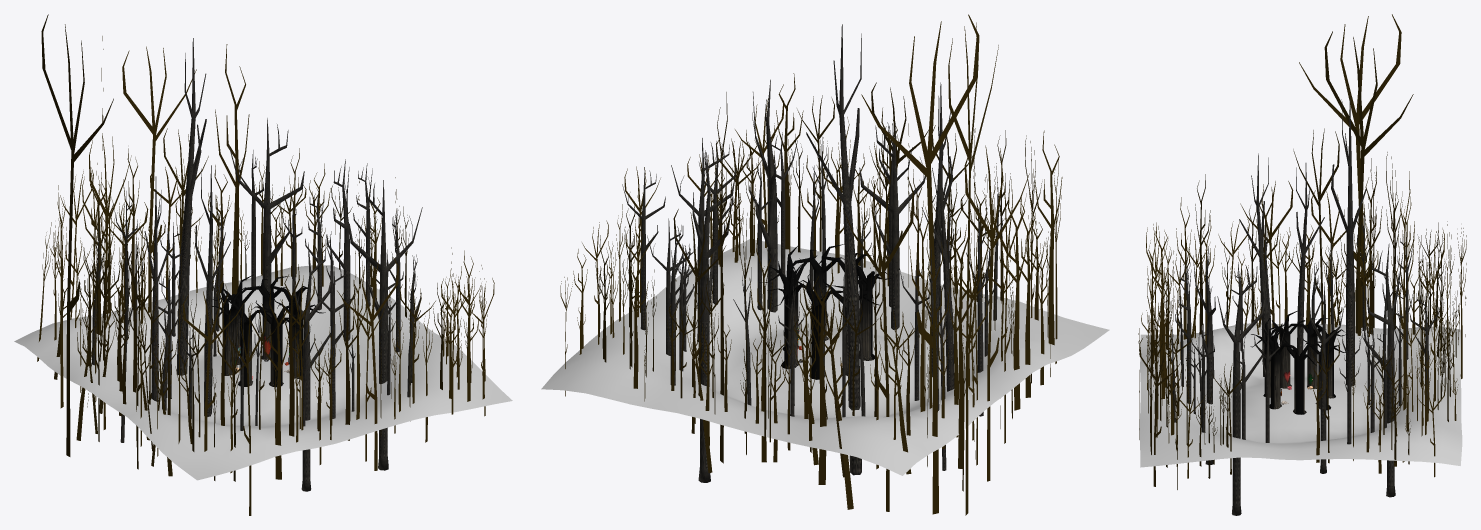
The model's file is forest-halloween-town.gltf.
The picture shows the model from 3 angles, left to right: view 1: azimuth 30°, elevation 25°; view 2: azimuth 150°, elevation 25°; view 3: azimuth 270°, elevation 25°; orthographic projection. The views are drawn at different scales.
Parts seen in each view (by area): view 1: Plane, Cylinder.011, Plane.093, Cylinder.007, Cylinder.001, Cylinder.005, Plane.089, Cylinder.013, Plane.088, Cylinder.039, Cylinder.022, Plane.054 (+24 smaller); view 2: Plane, Cylinder.011, Plane.102, Cylinder.001, Plane.093, Cylinder.007, Cylinder.005, Plane.092, Cylinder.039, Plane.103, Plane.101, Plane.088 (+29 smaller); view 3: Plane, Cylinder.011, Cylinder.007, Plane.102, Cylinder.001, Plane.093, Cylinder.039, Cylinder.013, Cylinder.022, Cylinder.005, Plane.088, Cylinder.029 (+27 smaller).
Part boxes in pixels (x1,y1,x2,y2): Plane: (14, 265, 512, 480); Cylinder.011: (176, 38, 206, 375); Plane.093: (41, 14, 113, 456); Cylinder.007: (349, 180, 422, 470); Cylinder.001: (228, 118, 304, 296); Cylinder.005: (292, 242, 331, 491); Plane.089: (122, 46, 196, 312); Cylinder.013: (195, 165, 230, 416); Plane.088: (215, 44, 249, 294); Cylinder.039: (144, 176, 170, 401); Cylinder.022: (326, 159, 350, 341); Plane.054: (337, 257, 398, 470); Plane: (541, 239, 1109, 475); Cylinder.011: (806, 24, 861, 475); Plane.102: (861, 14, 979, 514); Cylinder.001: (692, 150, 732, 482); Plane.093: (948, 22, 998, 515); Cylinder.007: (752, 79, 777, 312); Cylinder.005: (859, 123, 933, 329); Plane.092: (964, 145, 1029, 481); Cylinder.039: (932, 142, 954, 391); Plane.103: (843, 176, 914, 511); Plane.101: (951, 212, 977, 468); Plane.088: (715, 92, 732, 463); Plane: (1139, 322, 1462, 467); Cylinder.011: (1331, 97, 1366, 386); Cylinder.007: (1217, 262, 1265, 515); Plane.102: (1324, 31, 1413, 333); Cylinder.001: (1364, 243, 1403, 497); Plane.093: (1299, 14, 1401, 270); Cylinder.039: (1296, 163, 1324, 355); Cylinder.013: (1239, 153, 1268, 376); Cylinder.022: (1309, 281, 1344, 473); Cylinder.005: (1193, 247, 1215, 464); Plane.088: (1398, 171, 1414, 462); Cylinder.029: (1279, 337, 1320, 414).
Size of the model in its own units: 49.42 by 62.78 by 47.41.
